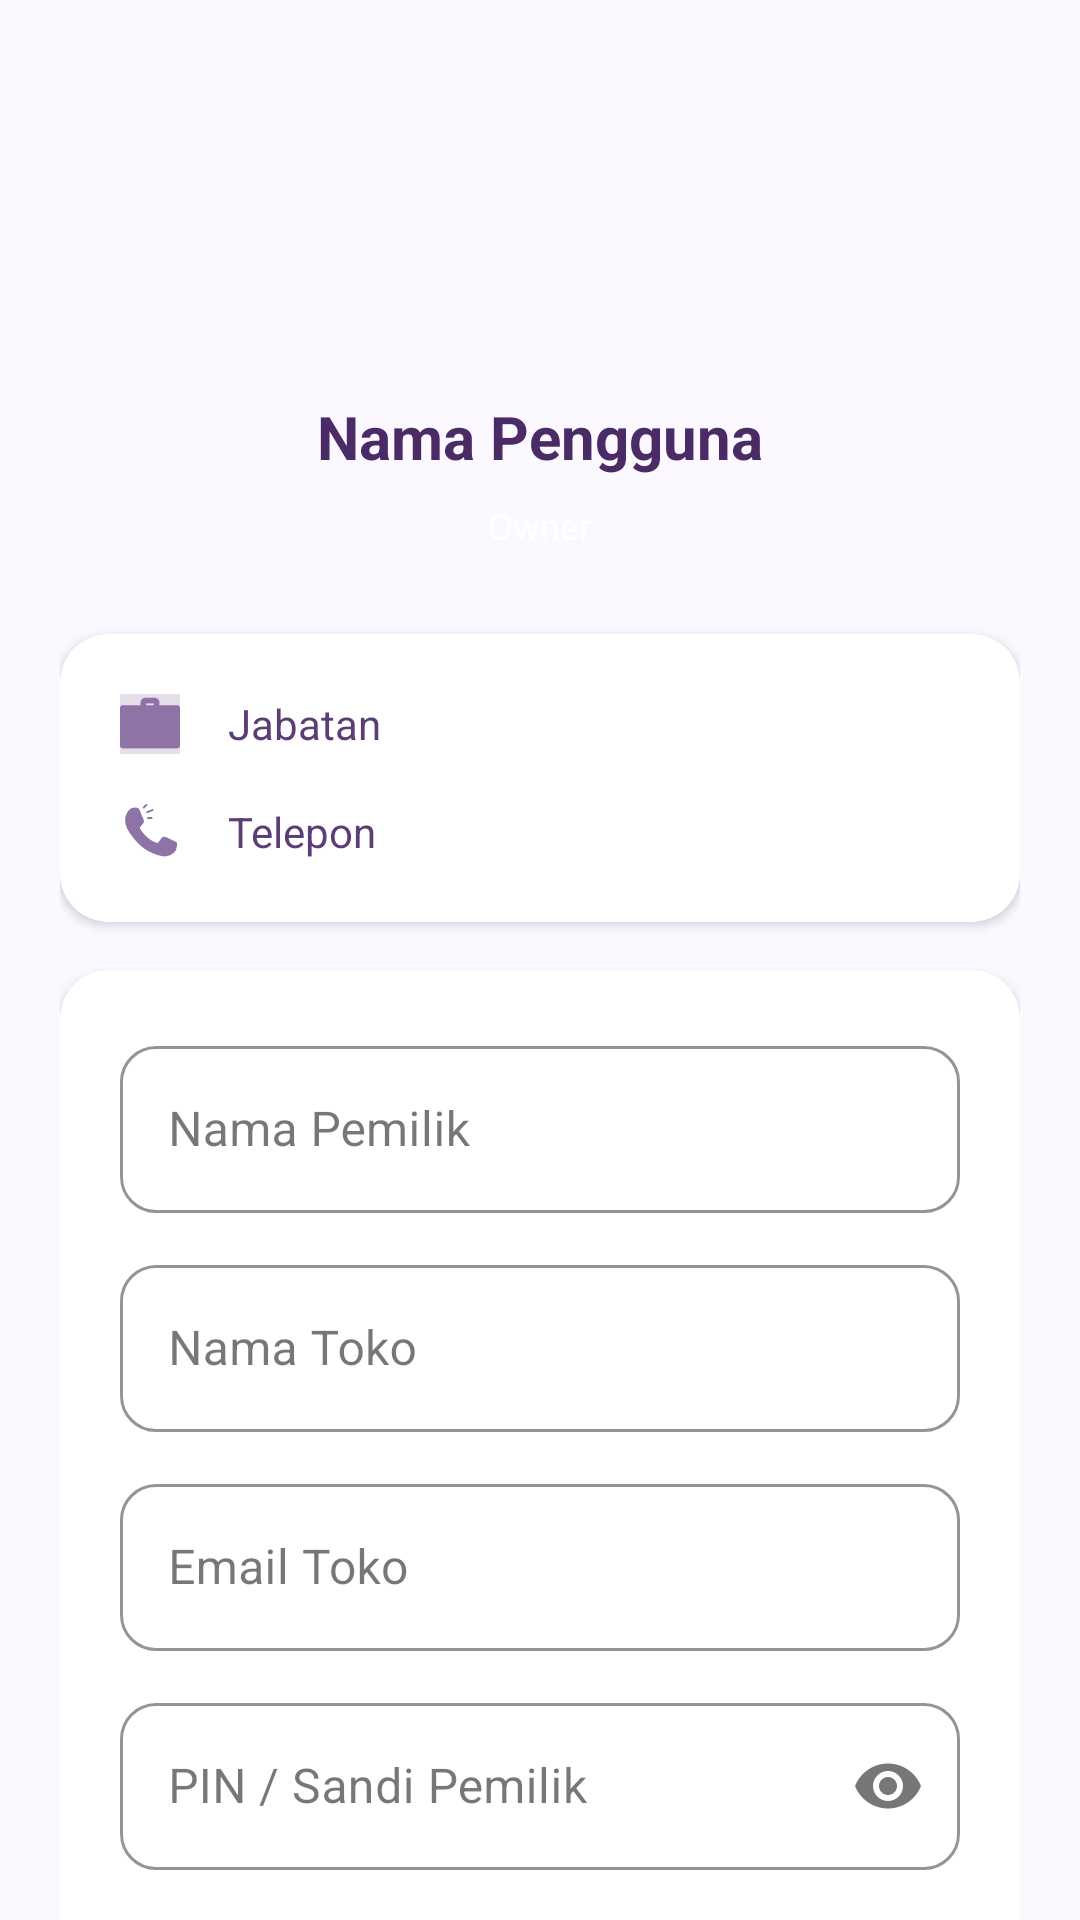

Point at icon controls on the screen. Image size 1080px×1920px, points as (x=x, y=y).
telp: (x=151, y=830)
